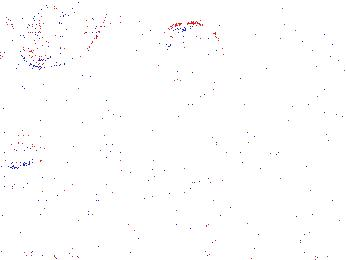moon jellyfish: (20, 1, 109, 68), (299, 31, 346, 134), (156, 22, 227, 84), (176, 10, 261, 41), (1, 138, 49, 191), (1, 6, 20, 98)
